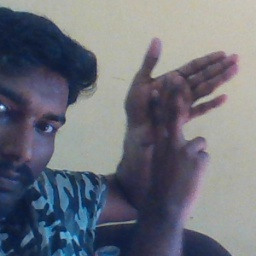N: (117, 34, 240, 188)
